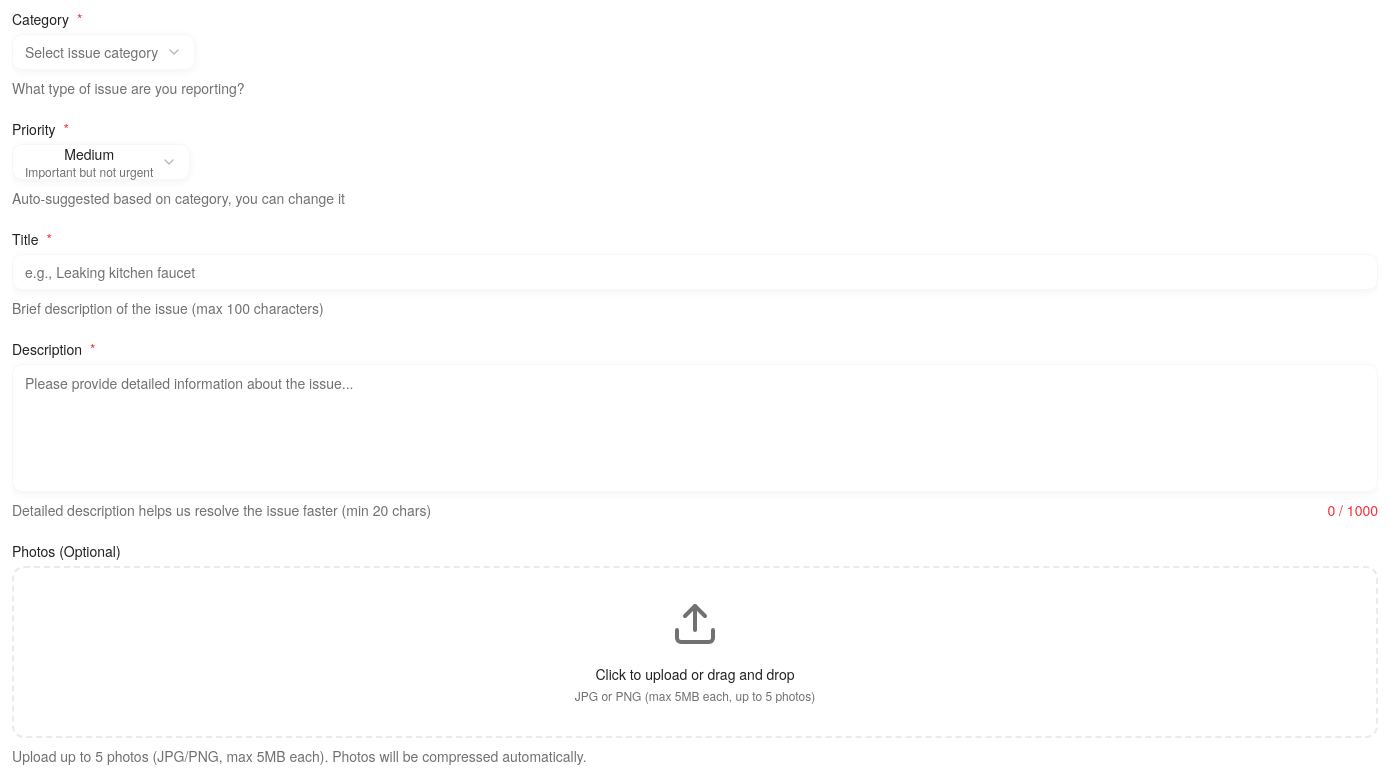
Test case: MaintenanceRequestForm › allows manual priority override
# Select category that auto-suggests HIGH
Click the dropdown with test id "select-category" at (104, 52), box [12,34,195,70]
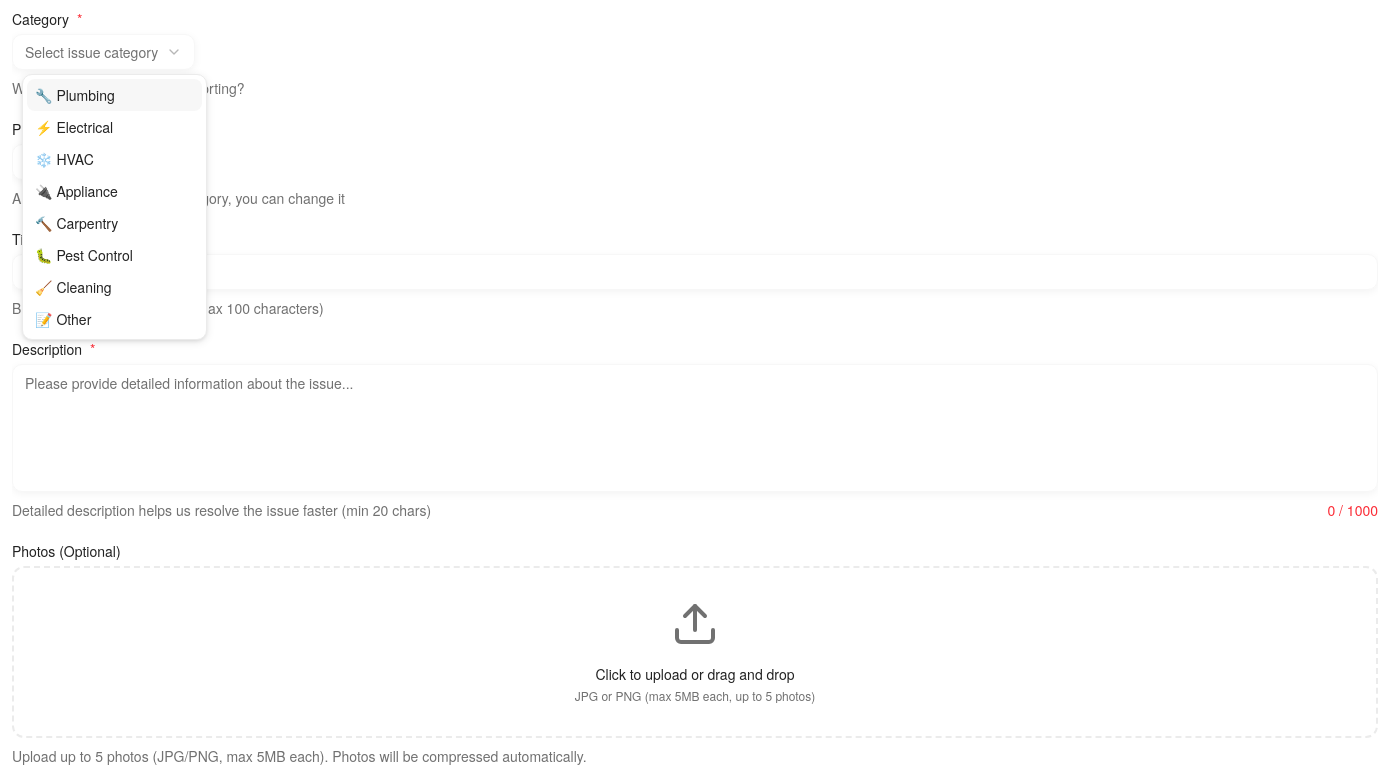
Click the option "⚡ Electrical" at (74, 127), box [35,117,113,137]
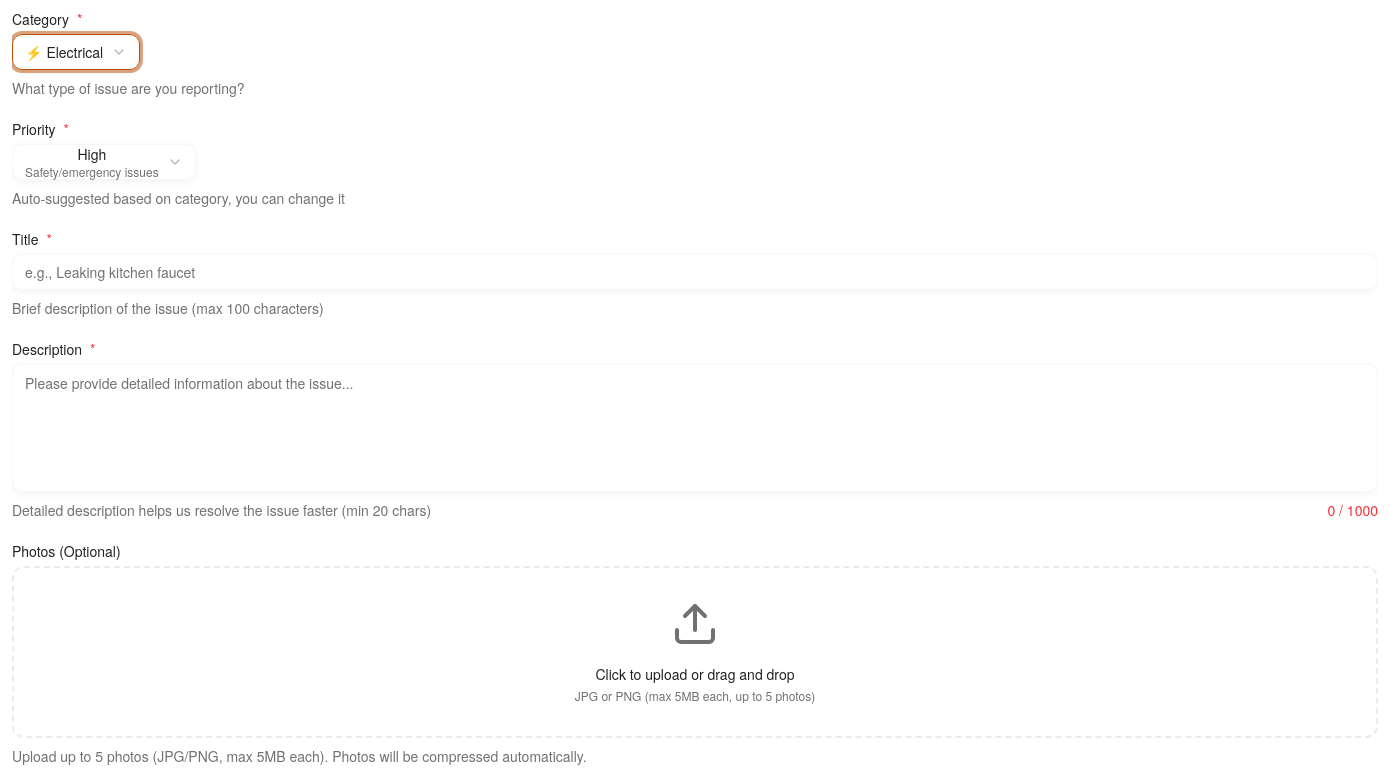
Expected: the dropdown with test id "select-priority" shows "High"
# Override to LOW
Click the dropdown with test id "select-priority" at (104, 162), box [12,144,196,180]
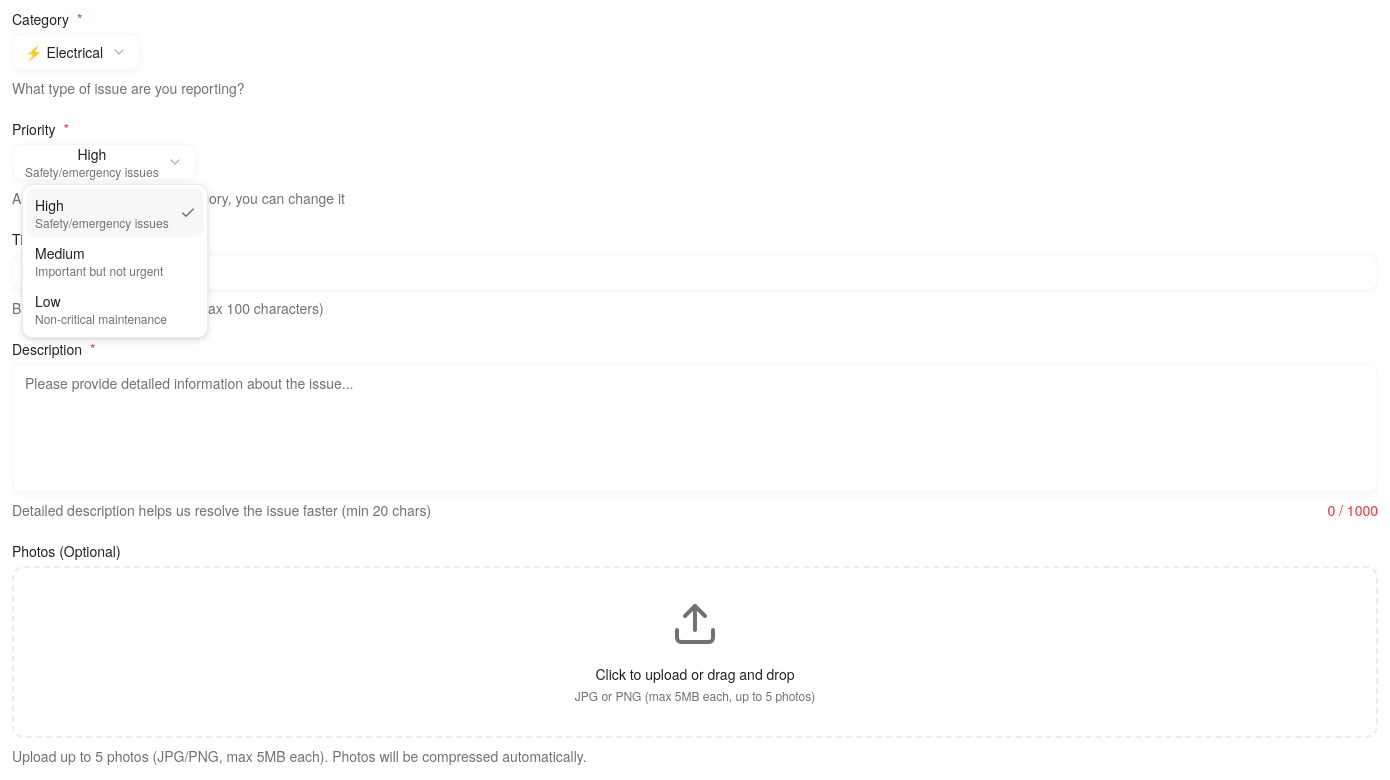
Click the text "Low" at (48, 301), box [35,291,60,311]
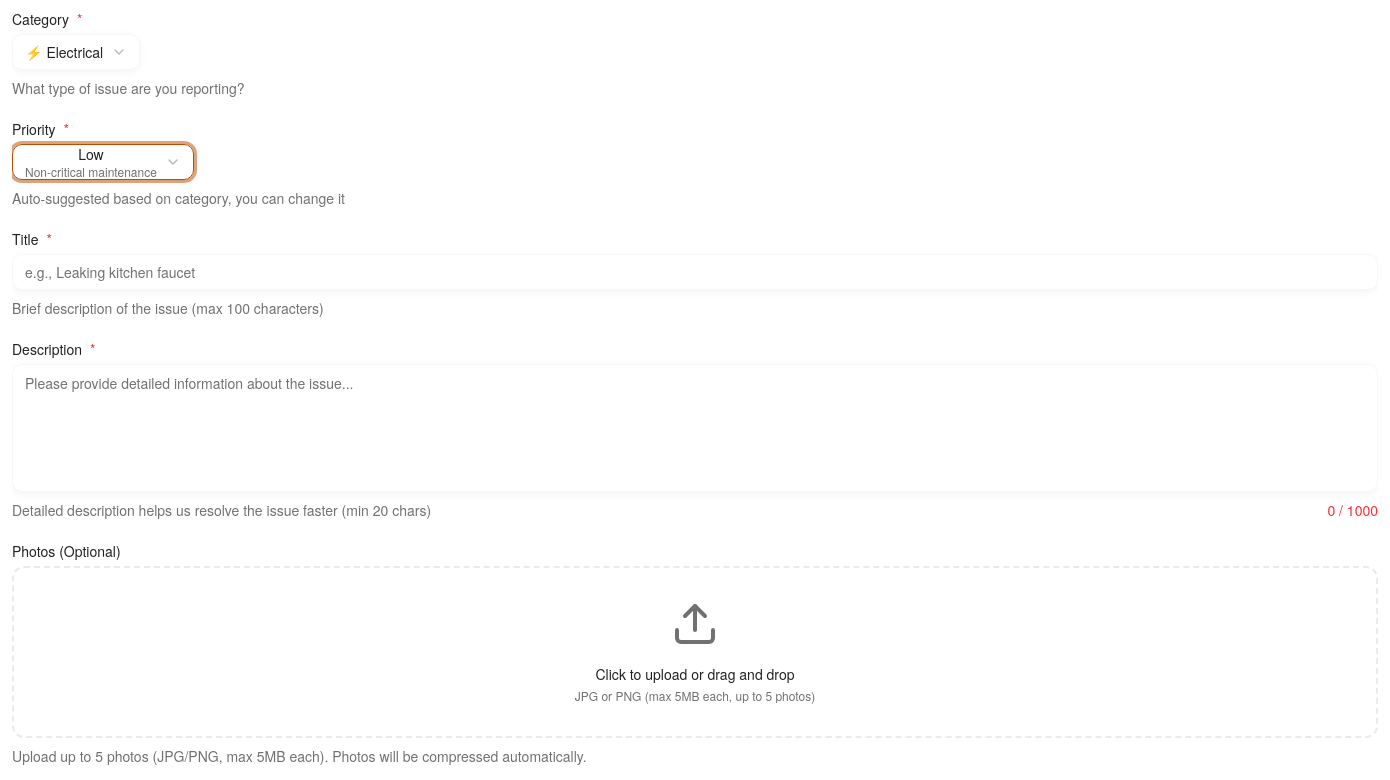
Expected: the dropdown with test id "select-priority" shows "Low", [12,144,194,180]
